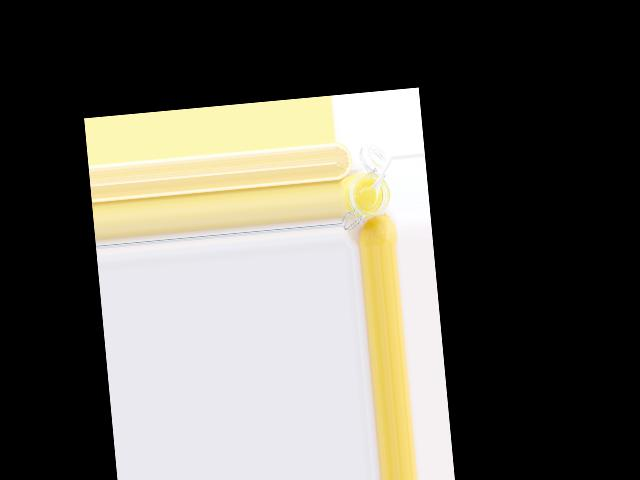lemon: (356, 211, 396, 248)
